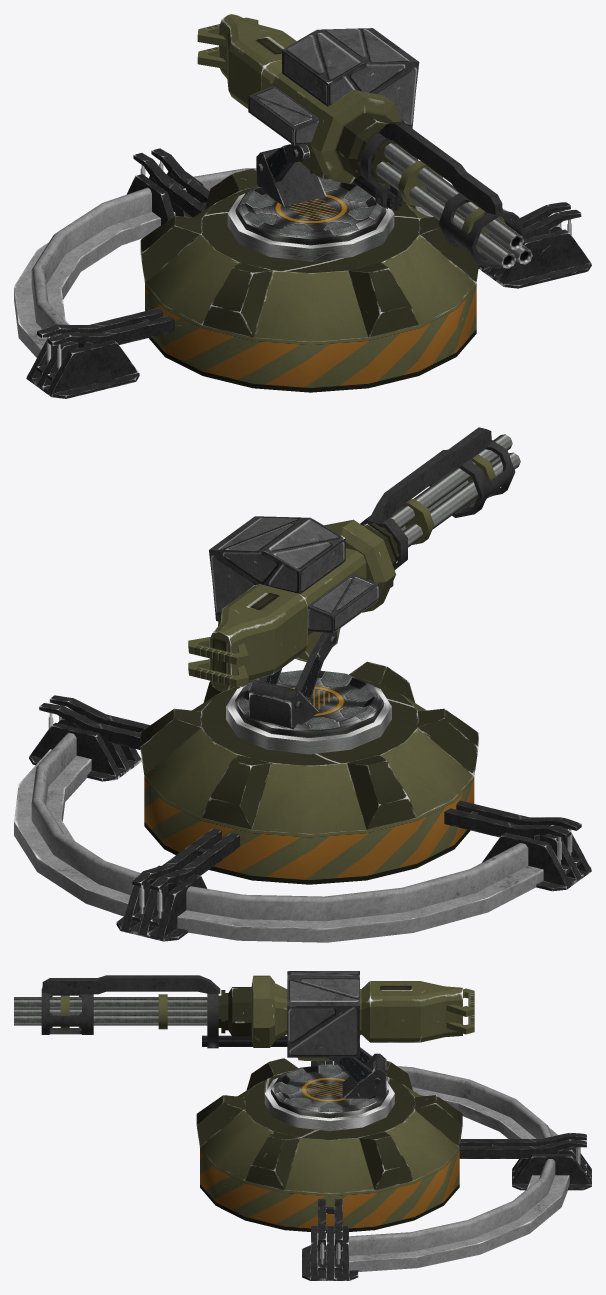
File: mini_turret_tower_01.fbx
The picture shows the model from 3 angles, top to bottom: view 1: azimuth 30°, elevation 25°; view 2: azimuth 150°, elevation 25°; view 3: azimuth 270°, elevation 25°; orthographic projection. The views are drawn at different scales.
Parts seen in each view (by area): view 1: body (×2), holder (×2), decor (×2), leg_bottom (×3), leg_arm (×3), barrels, decor2; view 2: body (×2), holder (×2), leg_arm (×3), leg_bottom (×3), decor (×2), barrels, decor2; view 3: body (×2), holder (×2), decor (×2), barrels, leg_bottom (×2), leg_arm (×2), decor2.
Part boxes in pixels (x1,y1,x2,y2): body (×2): (140, 14, 478, 392); holder (×2): (14, 168, 519, 357); decor (×2): (227, 121, 525, 269); leg_bottom (×3): (26, 171, 591, 398); leg_arm (×3): (37, 148, 581, 381); barrels: (375, 143, 532, 268); decor2: (256, 144, 326, 206); body (×2): (140, 516, 478, 884); holder (×2): (14, 670, 543, 942); leg_arm (×3): (39, 695, 581, 926); leg_bottom (×3): (29, 718, 591, 941); decor (×2): (226, 427, 515, 754); barrels: (389, 434, 520, 547); decor2: (249, 630, 338, 729); body (×2): (196, 971, 474, 1233); holder (×2): (270, 1064, 569, 1271); decor (×2): (41, 975, 394, 1131); barrels: (14, 994, 207, 1029); leg_bottom (×2): (302, 1147, 591, 1280); leg_arm (×2): (318, 1132, 586, 1270); decor2: (326, 1047, 386, 1098).
Bounding box in the file's own units: 7.52 × 3.62 × 8.9.
